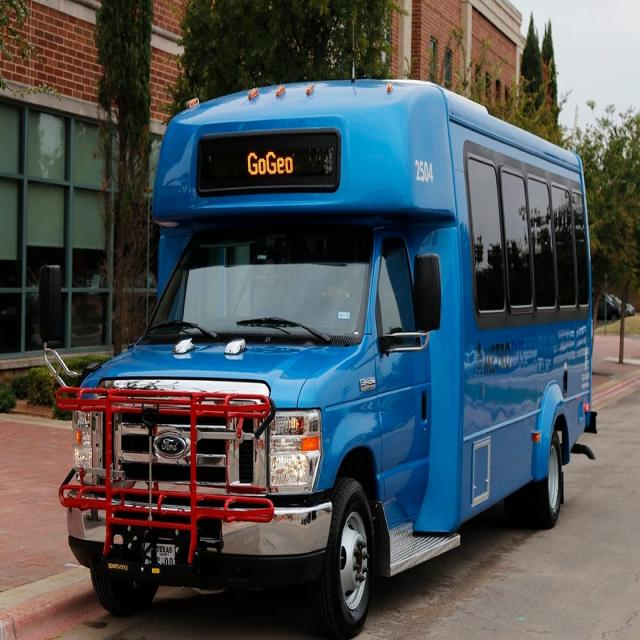bus: (48, 76, 599, 628)
